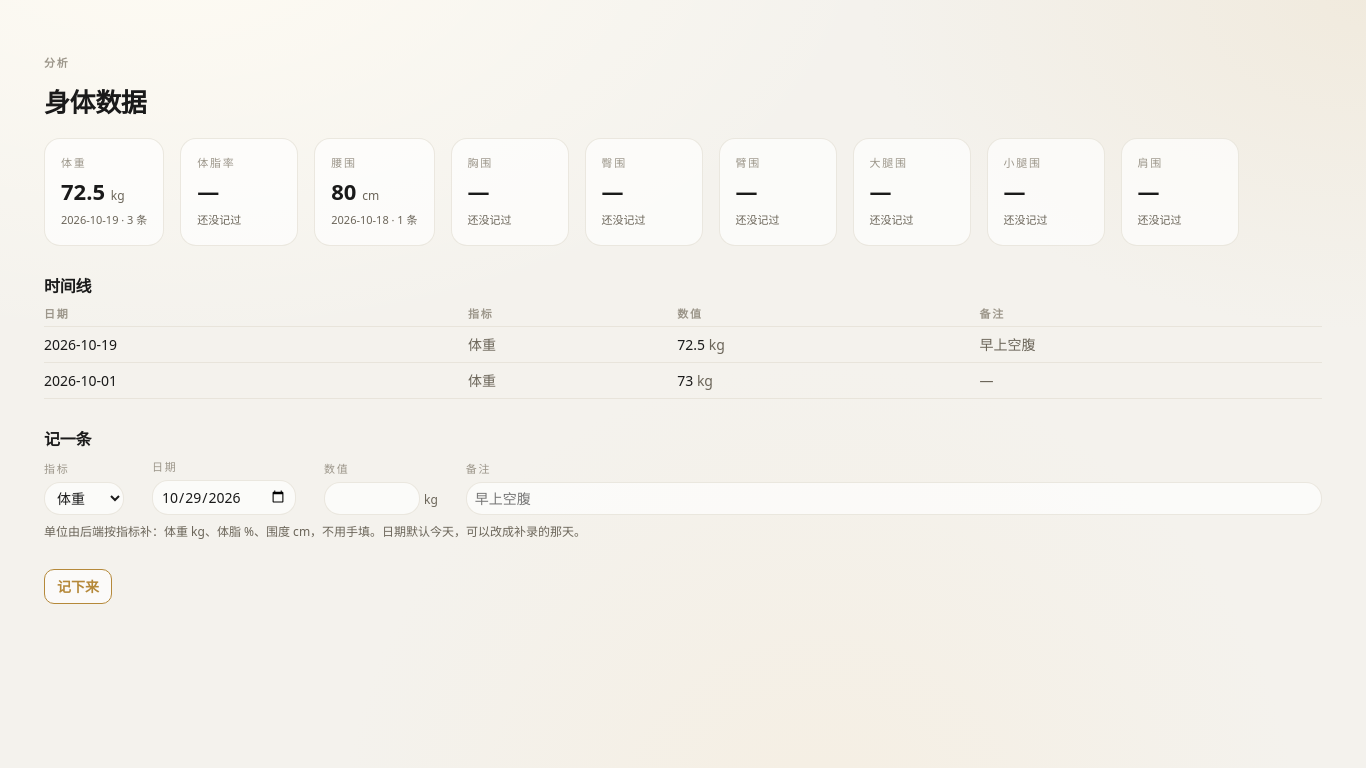
Test: 身体数据页 · 录入 › a_backend_400_is_shown_with_the_servers_own_message
Select "体脂率" in the dropdown with class "metric-type" at (84,498), box [44,482,124,514]
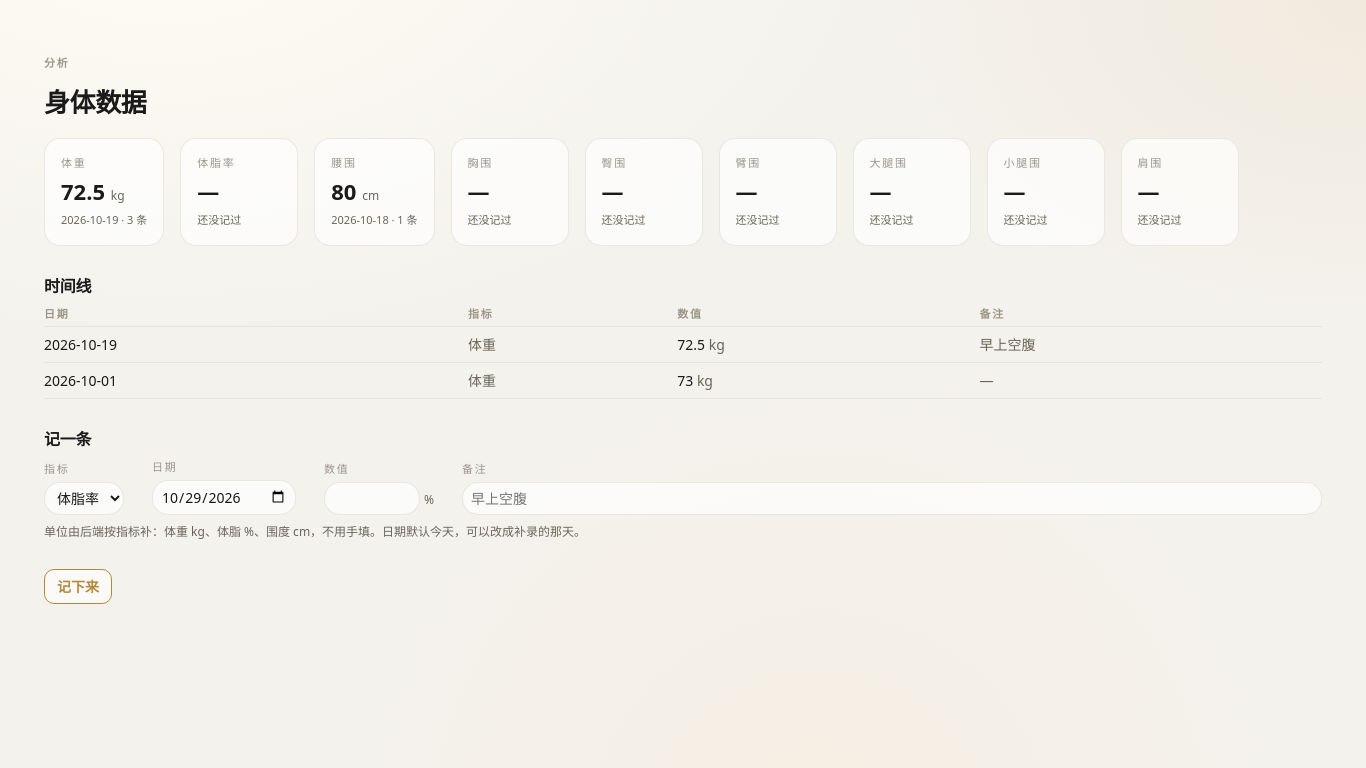
Type "110" into the field labelled "数值 %" at (372,498), box [324,482,420,514]
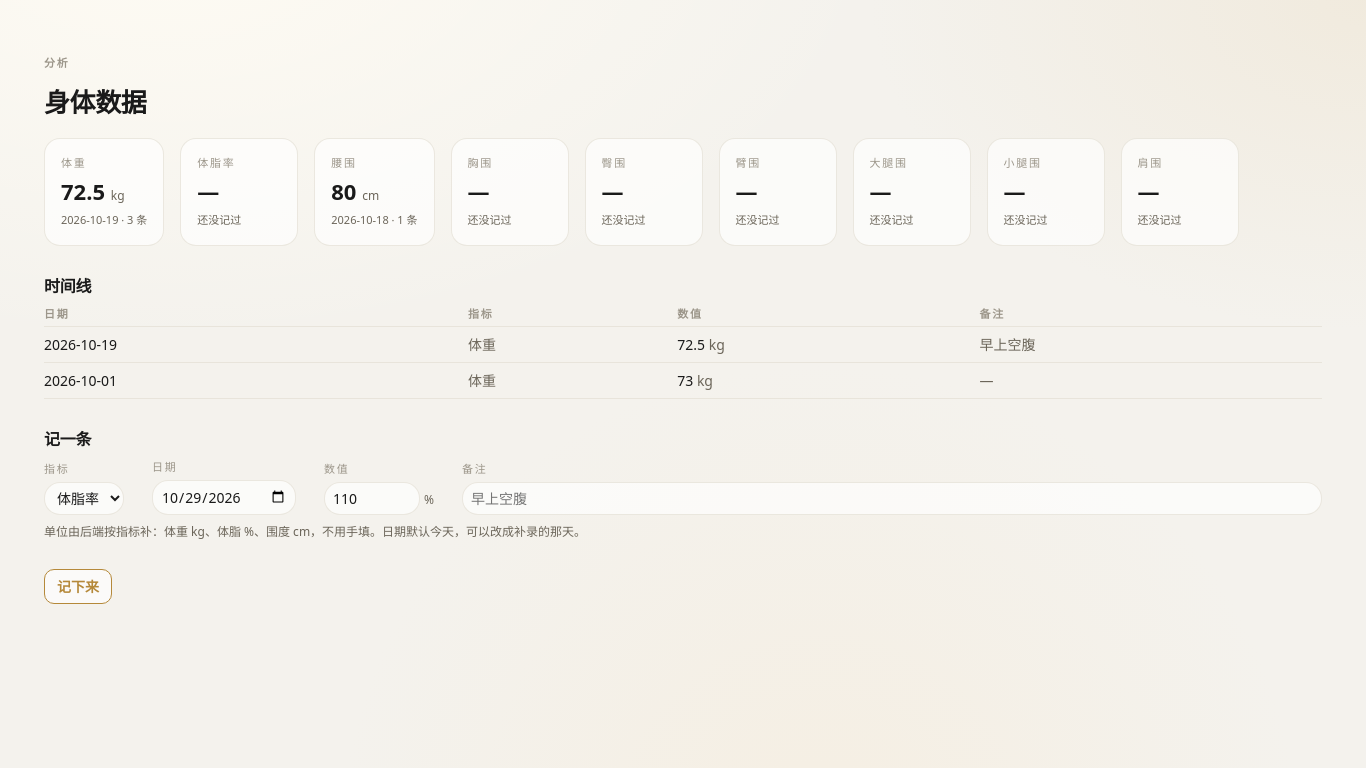
Click the button with class "save" at (78,586), box [44,568,112,604]
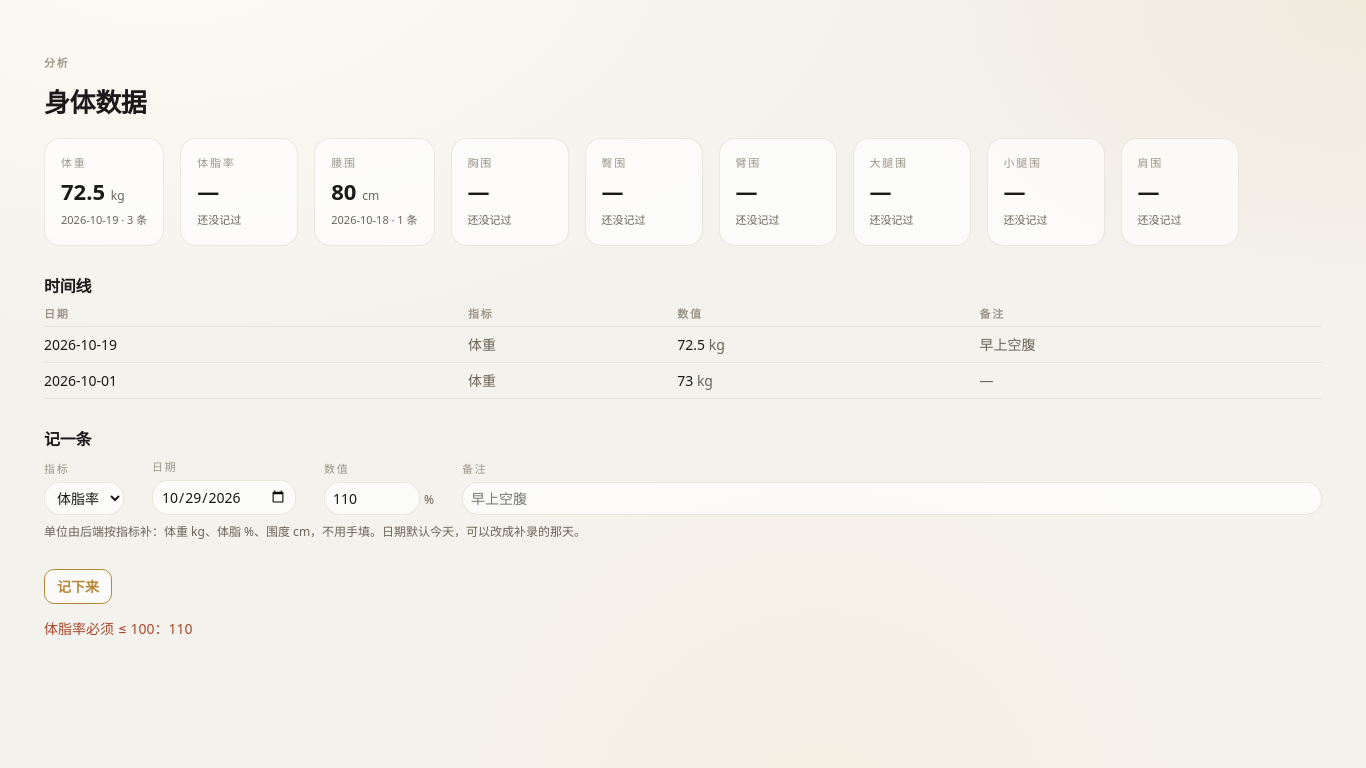
Expected: the text with class "save-error" reads "体脂率必须 ≤ 100：110", [44,618,193,638]
